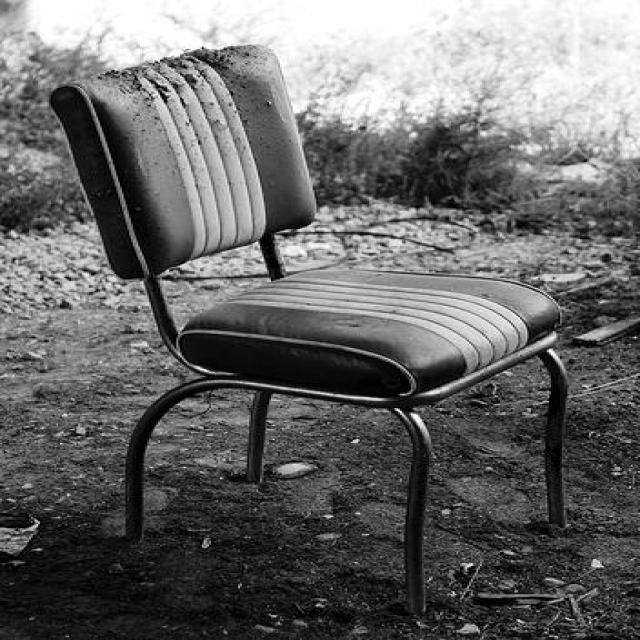chair: (47, 42, 571, 620)
